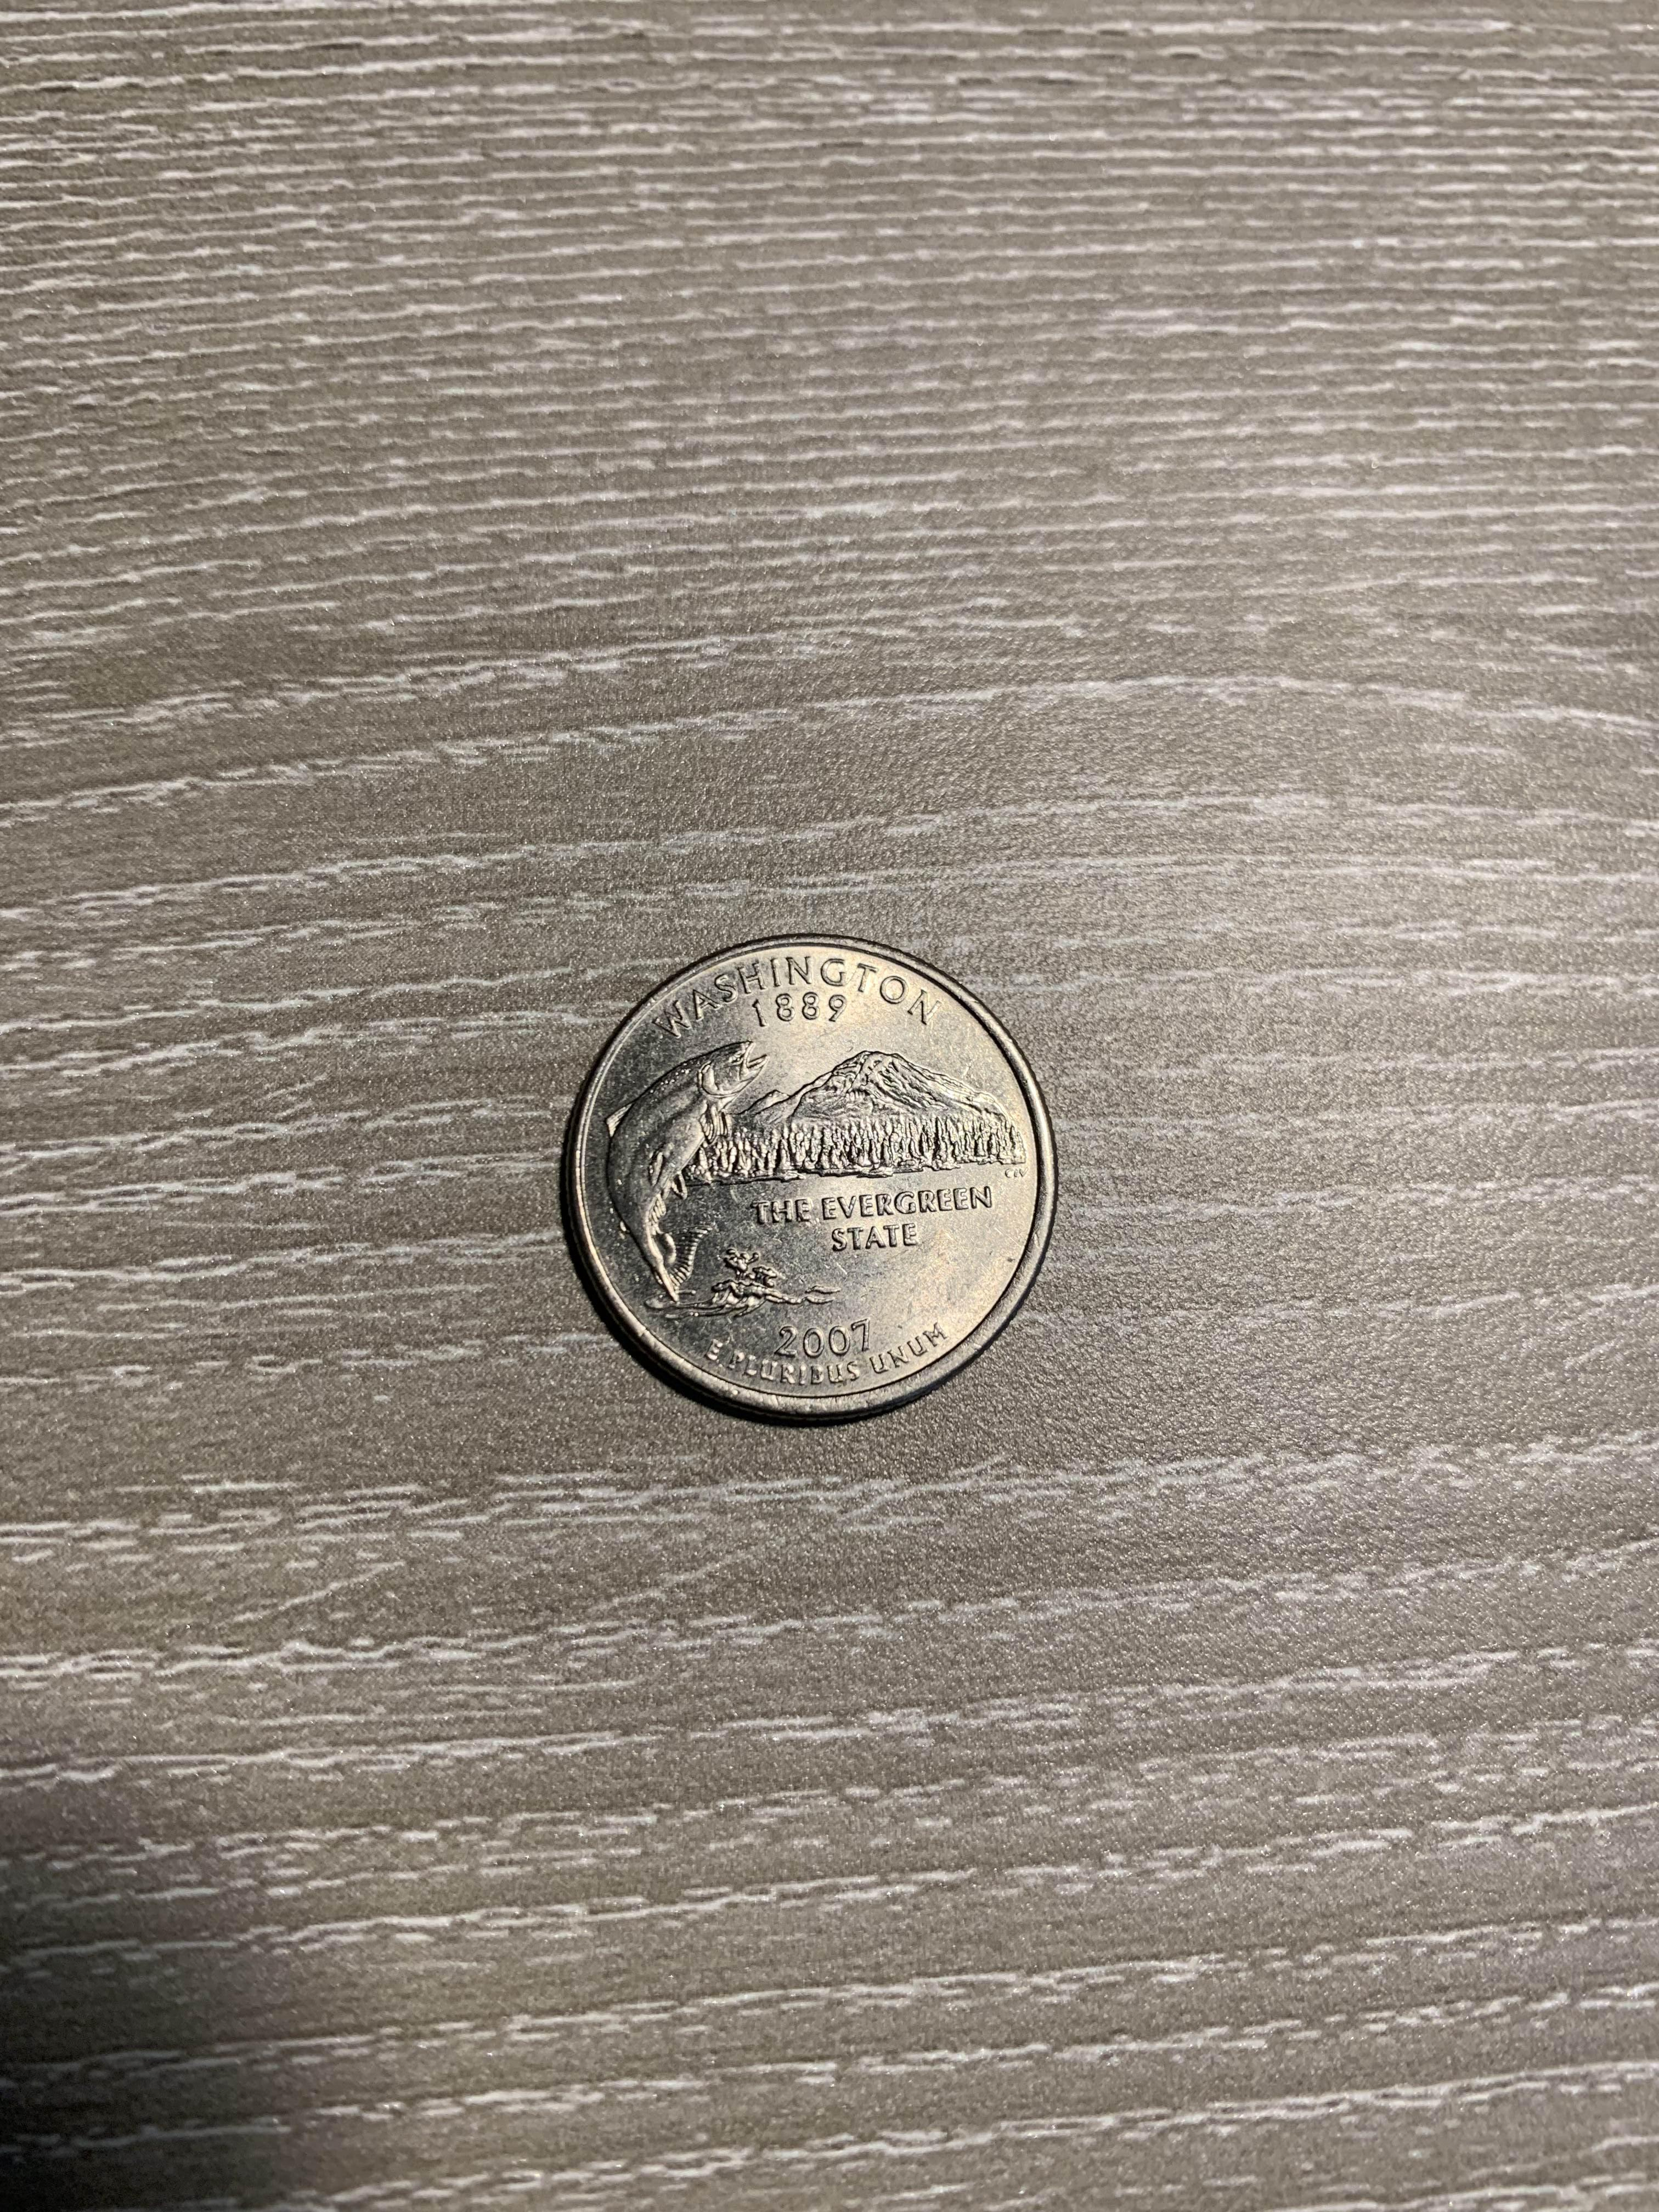Quarter: (530, 906, 1072, 1444)
